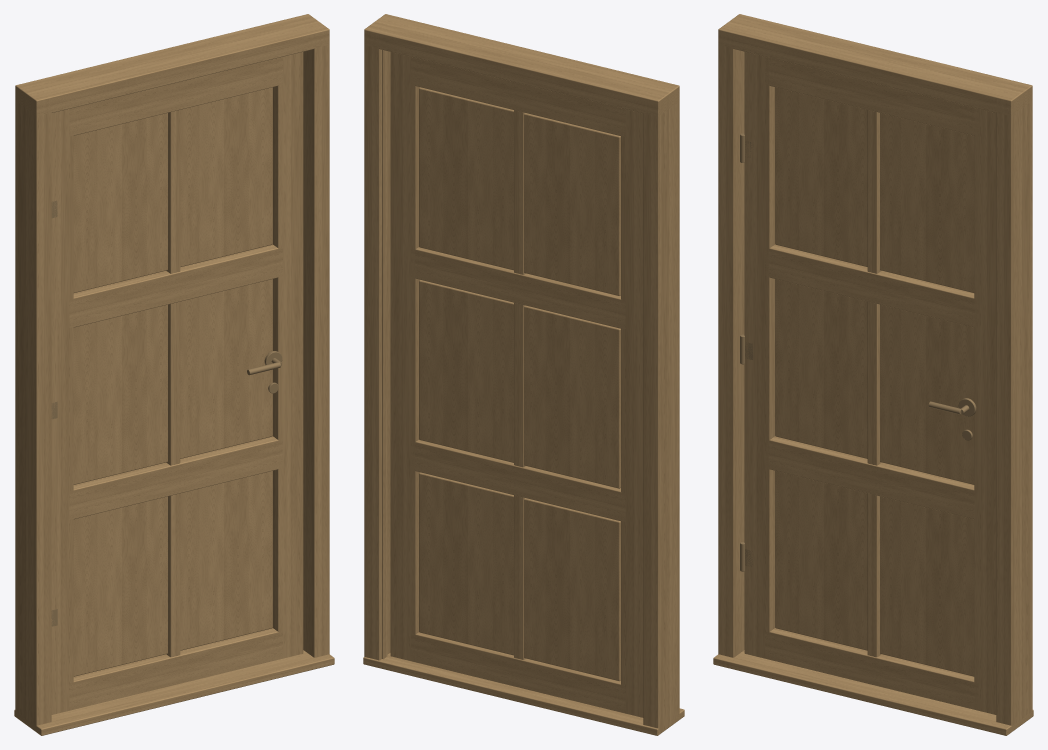
File: door.glb
3 views of the same model, side by side, from view 1: azimuth 30°, elevation 25°; view 2: azimuth 150°, elevation 25°; view 3: azimuth 330°, elevation 25° (orthographic).
Visible parts, largest first — view 1: Frame | jamb, Door | solid stile.001, Frame | jamb.001, Door | recessed field, Door | recessed field.001, Door | recessed field.002, Door | recessed field.003, Door | recessed field.005, Door | recessed field.004, Door | solid stile, Frame | header, Door | cross rail.001 (+5 smaller); view 2: Frame | jamb, Door | solid stile.001, Door | recessed field, Door | recessed field.001, Door | recessed field.002, Door | recessed field.005, Door | recessed field.003, Door | recessed field.004, Frame | jamb.001, Door | solid stile, Frame | header, Door | cross rail.001 (+6 smaller); view 3: Frame | jamb.001, Door | solid stile, Frame | jamb, Door | recessed field.003, Door | recessed field.005, Door | recessed field, Door | recessed field.001, Door | recessed field.002, Door | recessed field.004, Door | solid stile.001, Frame | header, Door | cross rail.002 (+5 smaller).
Part boxes in pixels (x1=…): Frame | jamb: x1=15, y1=87, x2=51, y2=730; Door | solid stile.001: x1=272, y1=52, x2=303, y2=658; Frame | jamb.001: x1=303, y1=29, x2=329, y2=657; Door | recessed field: x1=73, y1=496, x2=167, y2=676; Door | recessed field.001: x1=73, y1=304, x2=167, y2=484; Door | recessed field.002: x1=73, y1=113, x2=167, y2=292; Door | recessed field.003: x1=180, y1=471, x2=272, y2=650; Door | recessed field.005: x1=180, y1=87, x2=272, y2=266; Door | recessed field.004: x1=180, y1=279, x2=272, y2=458; Door | solid stile: x1=51, y1=108, x2=73, y2=714; Frame | header: x1=15, y1=14, x2=329, y2=116; Door | cross rail.001: x1=69, y1=436, x2=282, y2=519; Frame | jamb: x1=643, y1=87, x2=679, y2=734; Door | solid stile.001: x1=390, y1=52, x2=419, y2=661; Door | recessed field: x1=524, y1=498, x2=620, y2=681; Door | recessed field.001: x1=524, y1=305, x2=620, y2=488; Door | recessed field.002: x1=524, y1=113, x2=620, y2=295; Door | recessed field.005: x1=419, y1=87, x2=513, y2=270; Door | recessed field.003: x1=419, y1=472, x2=513, y2=655; Door | recessed field.004: x1=419, y1=280, x2=513, y2=462; Frame | jamb.001: x1=364, y1=29, x2=390, y2=660; Door | solid stile: x1=621, y1=109, x2=643, y2=717; Frame | header: x1=364, y1=14, x2=679, y2=116; Door | cross rail.001: x1=411, y1=440, x2=625, y2=521; Frame | jamb.001: x1=996, y1=87, x2=1032, y2=730; Door | solid stile: x1=744, y1=52, x2=775, y2=658; Frame | jamb: x1=718, y1=30, x2=744, y2=657; Door | recessed field.003: x1=880, y1=496, x2=974, y2=676; Door | recessed field.005: x1=880, y1=113, x2=974, y2=292; Door | recessed field: x1=775, y1=471, x2=867, y2=650; Door | recessed field.001: x1=775, y1=279, x2=867, y2=458; Door | recessed field.002: x1=775, y1=87, x2=867, y2=266; Door | recessed field.004: x1=880, y1=304, x2=974, y2=484; Door | solid stile.001: x1=974, y1=108, x2=996, y2=714; Frame | header: x1=718, y1=14, x2=1032, y2=115; Door | cross rail.002: x1=765, y1=244, x2=978, y2=327.
Bounding box in the file's own units: 1.03 × 2.12 × 0.165.
Materials: 3 (3 with a texture image).
